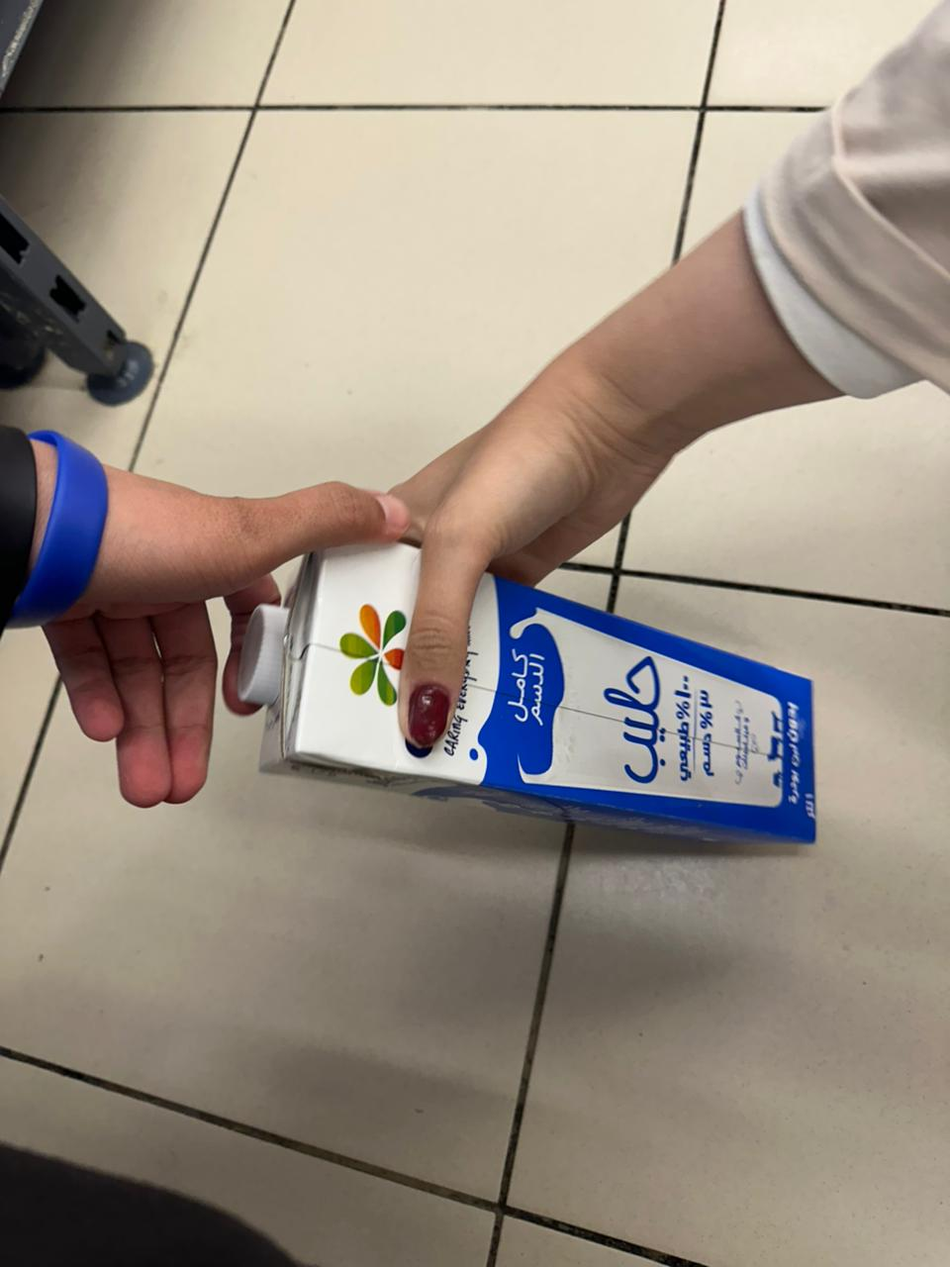milk: (241, 545, 814, 841)
